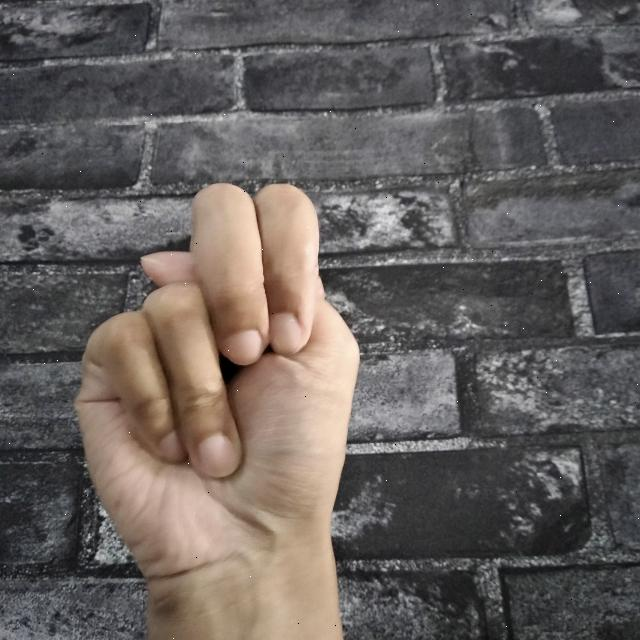N: (68, 180, 369, 640)
